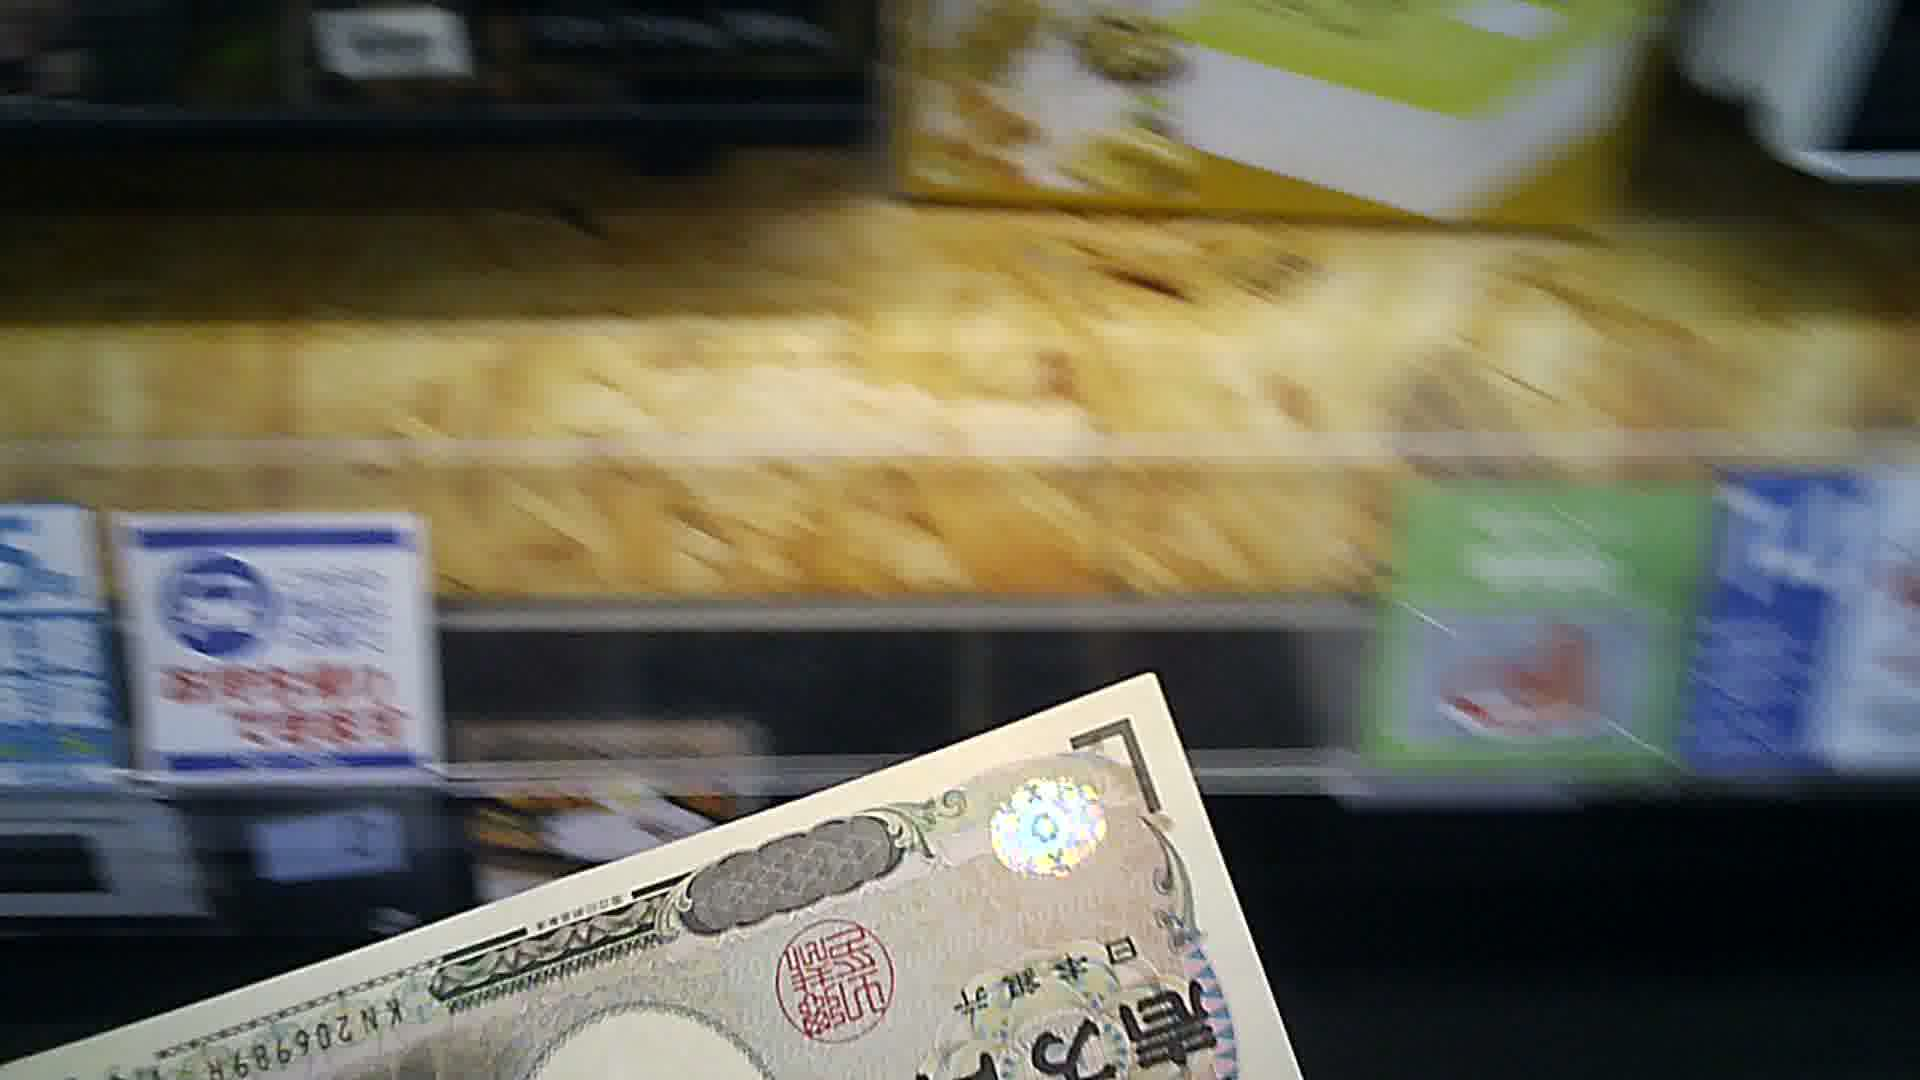10,000 Yen: (175, 661, 1294, 1079)
